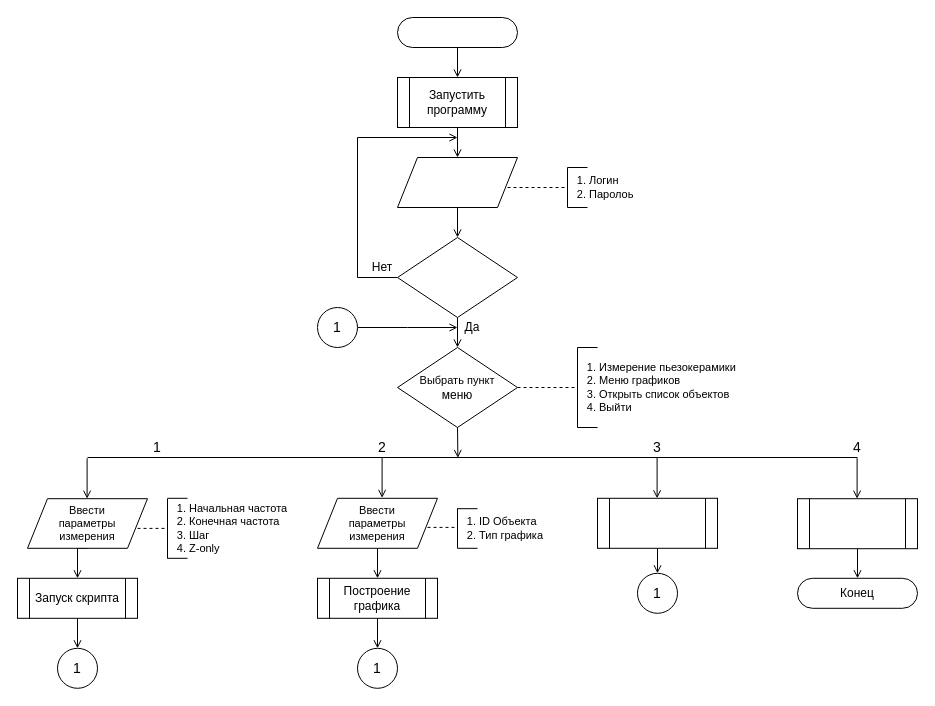
Some shapes in this 935 by 706 pixel diagram are drawn without their labels. Each missing label, with the centre of its shape:
"Авториза- ция прошла успешно?" belongs at [457,277].
"Ввести параметры авторизации" belongs at [457,182].
"Закрытие приложения" belongs at [857,523].
"Начало" belongs at [457,32].
"Просмотр таблицы объектов" belongs at [657,522].
